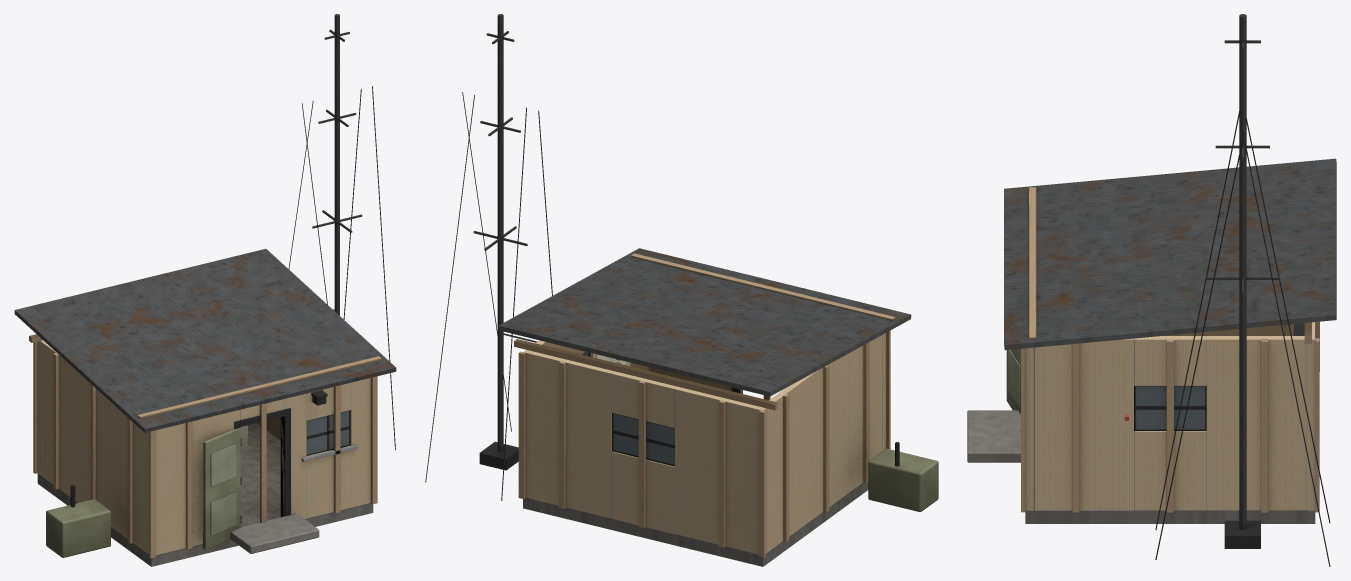
File: d_radio.glb
3 renders of one model, left to right at view 1: azimuth 30°, elevation 25°; view 2: azimuth 150°, elevation 25°; view 3: azimuth 270°, elevation 25°, orthographic. The views are drawn at different scales.
Visible parts, largest first — view 1: BldR_Shell, BldR_Roof; view 2: BldR_Shell, BldR_Roof; view 3: BldR_Roof, BldR_Shell.
Boxes of the visible parts, x1=… form: BldR_Shell: x1=33, y1=309, x2=377, y2=566; BldR_Roof: x1=14, y1=14, x2=396, y2=449; BldR_Shell: x1=502, y1=330, x2=938, y2=566; BldR_Roof: x1=425, y1=14, x2=911, y2=500; BldR_Roof: x1=1004, y1=14, x2=1336, y2=566; BldR_Shell: x1=967, y1=321, x2=1319, y2=523.
Bounding box in the file's own units: 7.62 × 8.2 × 5.09.
Materials: 3 (3 with a texture image).
